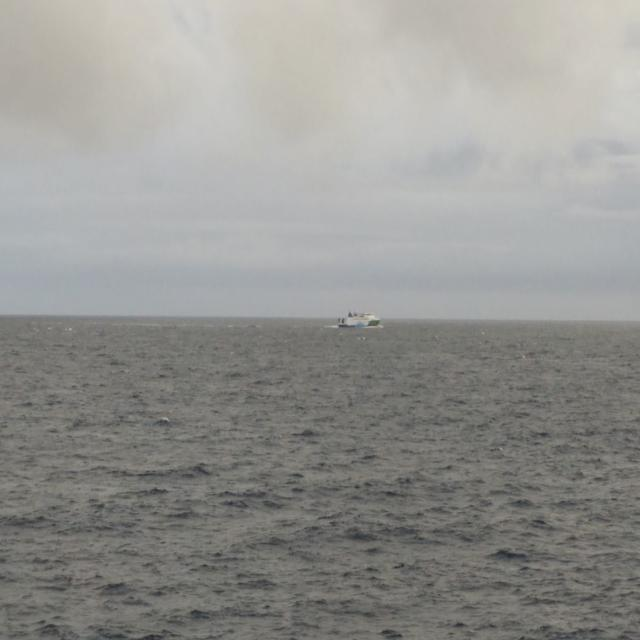houseboat: (336, 304, 383, 331)
